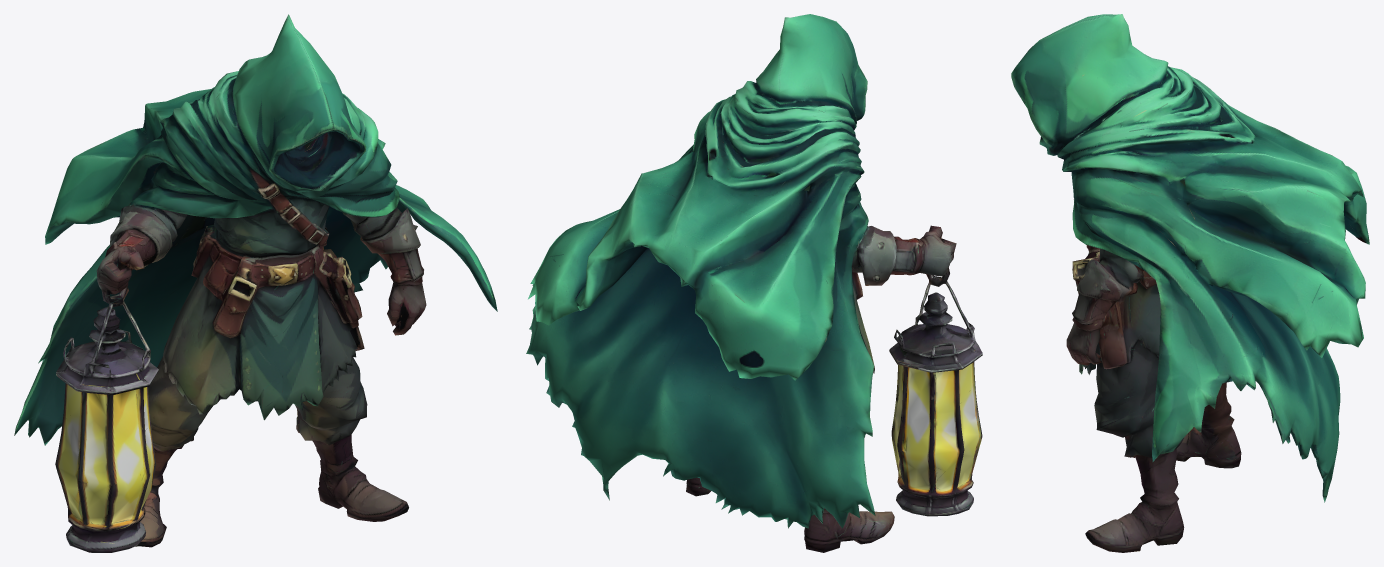
The model's file is support.glb.
3 views of the same model, side by side, from view 1: azimuth 30°, elevation 25°; view 2: azimuth 150°, elevation 25°; view 3: azimuth 270°, elevation 25° (orthographic). The views are drawn at different scales.
Parts seen in each view (by area): view 1: Mesh_0; view 2: Mesh_0; view 3: Mesh_0.
Part boxes in pixels (left/top/right/bottom): Mesh_0: left=14, top=14, right=497, bottom=552; Mesh_0: left=526, top=14, right=982, bottom=552; Mesh_0: left=1011, top=14, right=1369, bottom=552.
Size of the model in its own units: 1.71 by 1.91 by 1.26.
Materials: 1 (1 with a texture image).
